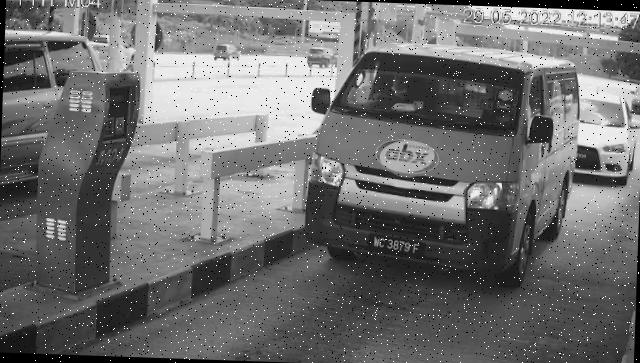License_Plate: (367, 232, 430, 261)
van: (305, 42, 582, 290)
